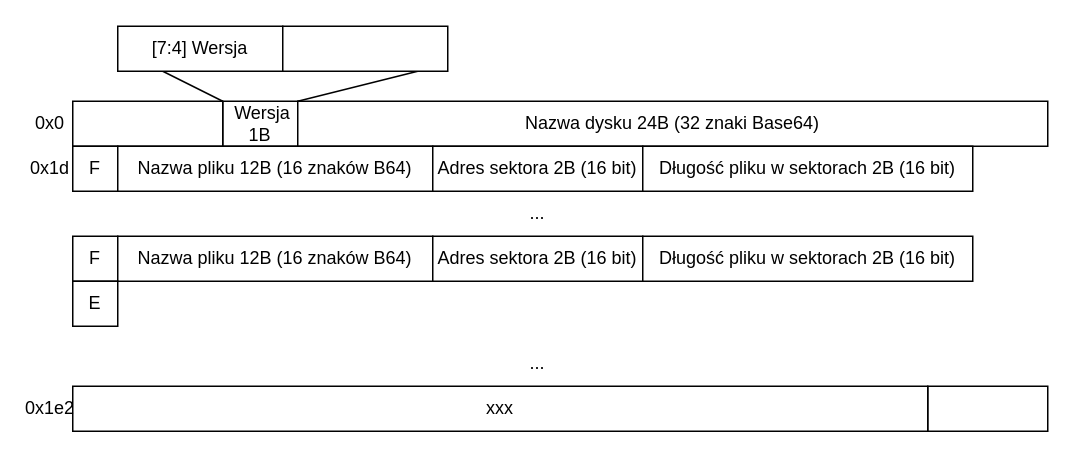
The diagram is 1074 pixels wide and 458 high, and some of its shapes have lost their labels. The centre of each missing label's shape, as x and y in pixels:
"[3:0] Wydanie" belongs at (364,48).
"AIFS" belongs at (147,123).
"Suma kontrola 1B" belongs at (987,408).
